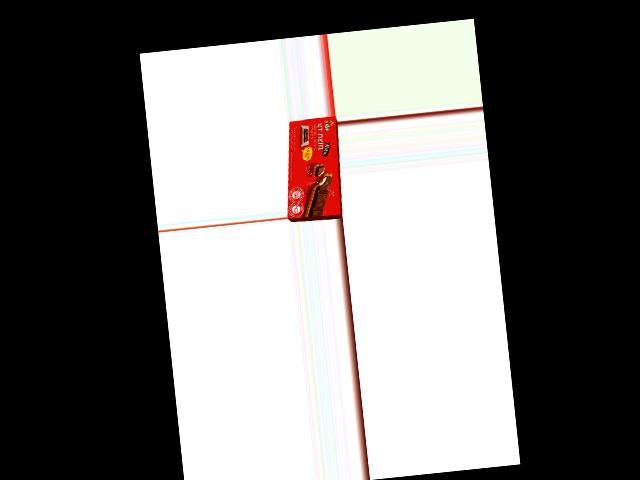chocolate: (283, 115, 342, 222)
